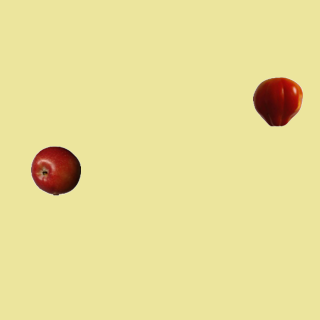Apple Braeburn: (30, 145, 80, 195)
Tomato 1: (252, 76, 302, 126)
